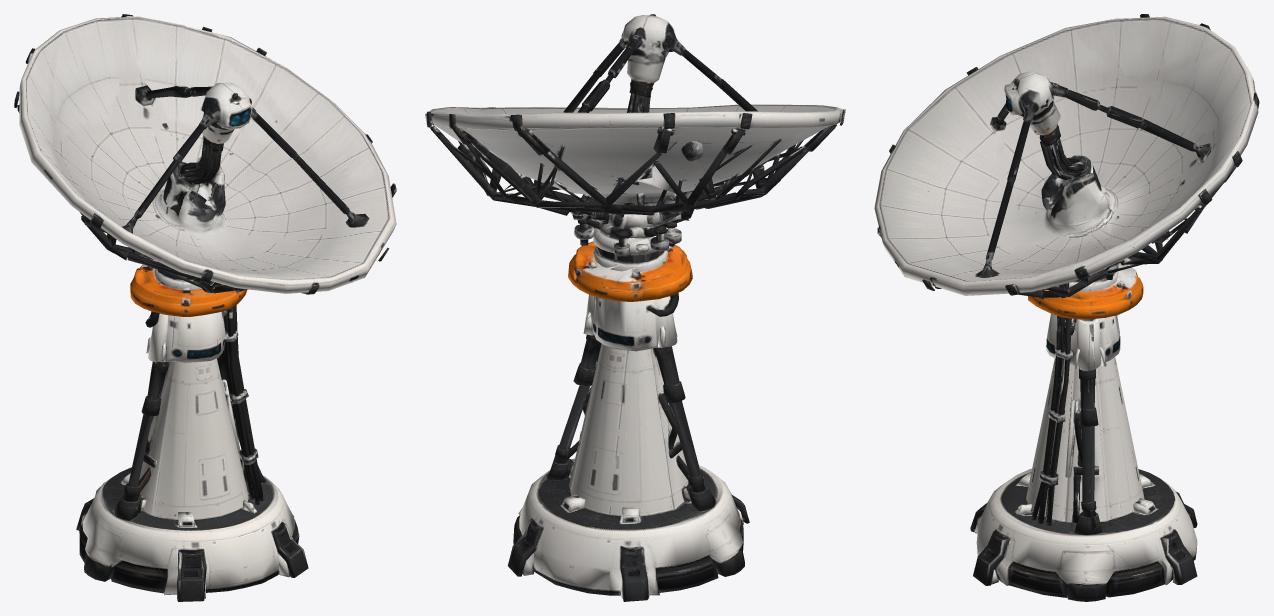
The model's file is AW-MOON-OBSERVATORY-001-v0.2.glb.
3 views of the same model, side by side, from view 1: azimuth 30°, elevation 25°; view 2: azimuth 150°, elevation 25°; view 3: azimuth 270°, elevation 25° (orthographic). The views are drawn at different scales.
Visible parts, largest first — view 1: AW-MOON-OBSERVATORY-001_meter_ground_pivot; view 2: AW-MOON-OBSERVATORY-001_meter_ground_pivot; view 3: AW-MOON-OBSERVATORY-001_meter_ground_pivot.
Boxes of the visible parts, x1,y1,x2,y2 form: AW-MOON-OBSERVATORY-001_meter_ground_pivot: (14, 14, 396, 601); AW-MOON-OBSERVATORY-001_meter_ground_pivot: (425, 14, 845, 601); AW-MOON-OBSERVATORY-001_meter_ground_pivot: (874, 14, 1259, 601).
Bounding box in the file's own units: 8.96 × 12 × 8.68.
1 material, 1 textured.
